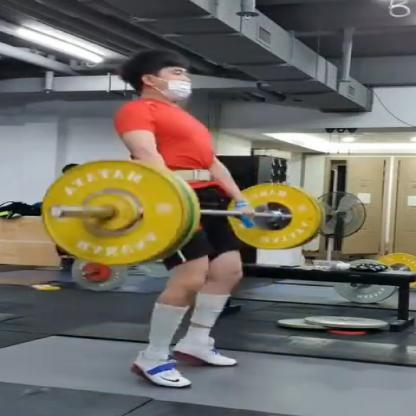barbell: (44, 160, 326, 266)
